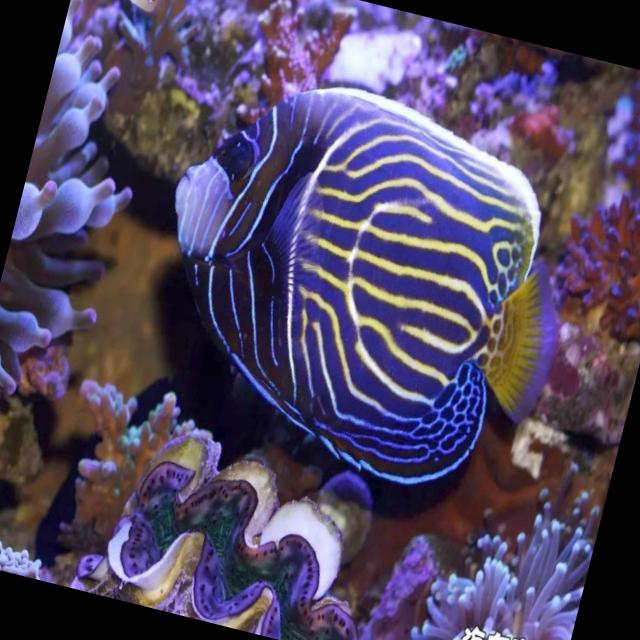AngelFish: (119, 52, 602, 520)
